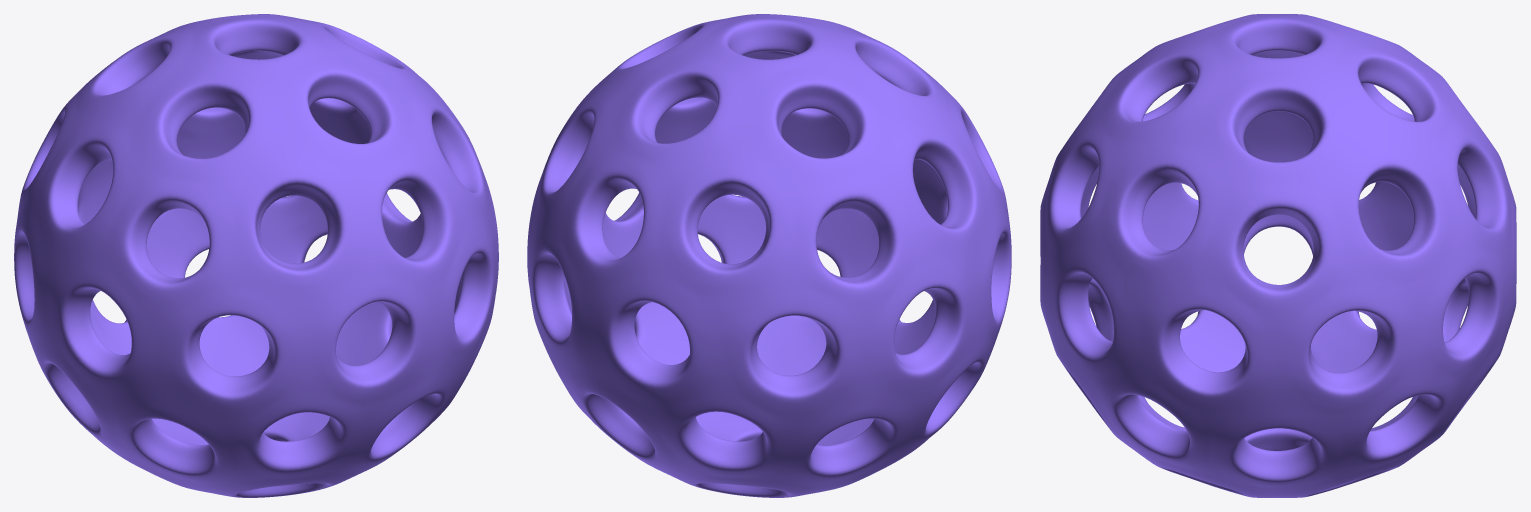
The model's file is sphere-abstract-shape-animated-3d-icon-430778994990.glb.
The picture shows the model from 3 angles, left to right: view 1: azimuth 30°, elevation 25°; view 2: azimuth 150°, elevation 25°; view 3: azimuth 270°, elevation 25°; orthographic projection.
Visible parts, largest first — view 1: Sphere With Holes; view 2: Sphere With Holes; view 3: Sphere With Holes.
Part boxes in pixels (x1=…): Sphere With Holes: x1=14, y1=14, x2=498, y2=497; Sphere With Holes: x1=527, y1=14, x2=1011, y2=497; Sphere With Holes: x1=1040, y1=14, x2=1516, y2=497.
Size of the model in its own units: 1.98 by 1.95 by 1.95.
